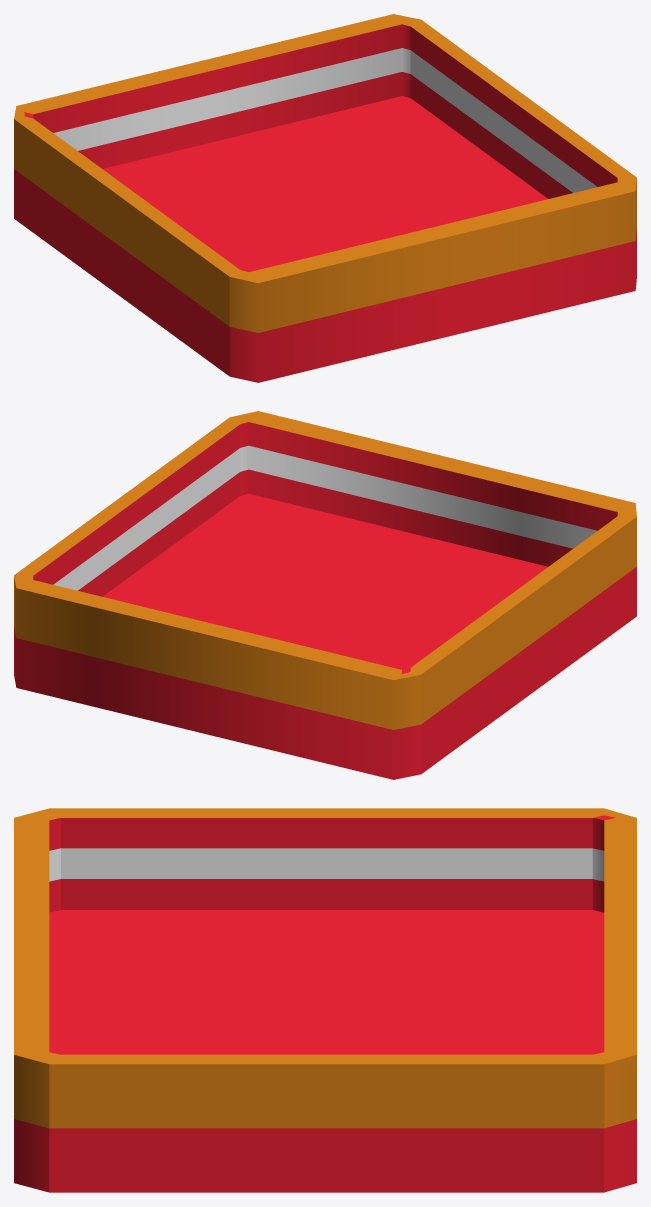
The model's file is Choco4-2.fbx.
The picture shows the model from 3 angles, top to bottom: view 1: azimuth 30°, elevation 25°; view 2: azimuth 150°, elevation 25°; view 3: azimuth 270°, elevation 25°; orthographic projection. The views are drawn at different scales.
Visible parts, largest first — view 1: Choco4-2; view 2: Choco4-2; view 3: Choco4-2.
Part boxes in pixels (box(x1,y1,x2,y2)): Choco4-2: box(14, 14, 636, 382); Choco4-2: box(14, 411, 636, 779); Choco4-2: box(14, 808, 636, 1192).
Size of the model in its own units: 9.82 by 2.3 by 10.11.
